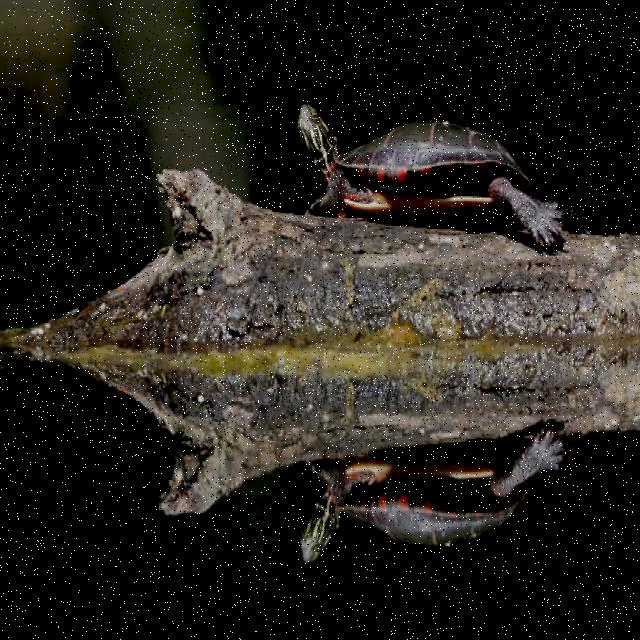tortoise: (280, 434, 564, 590), (294, 98, 566, 245)
